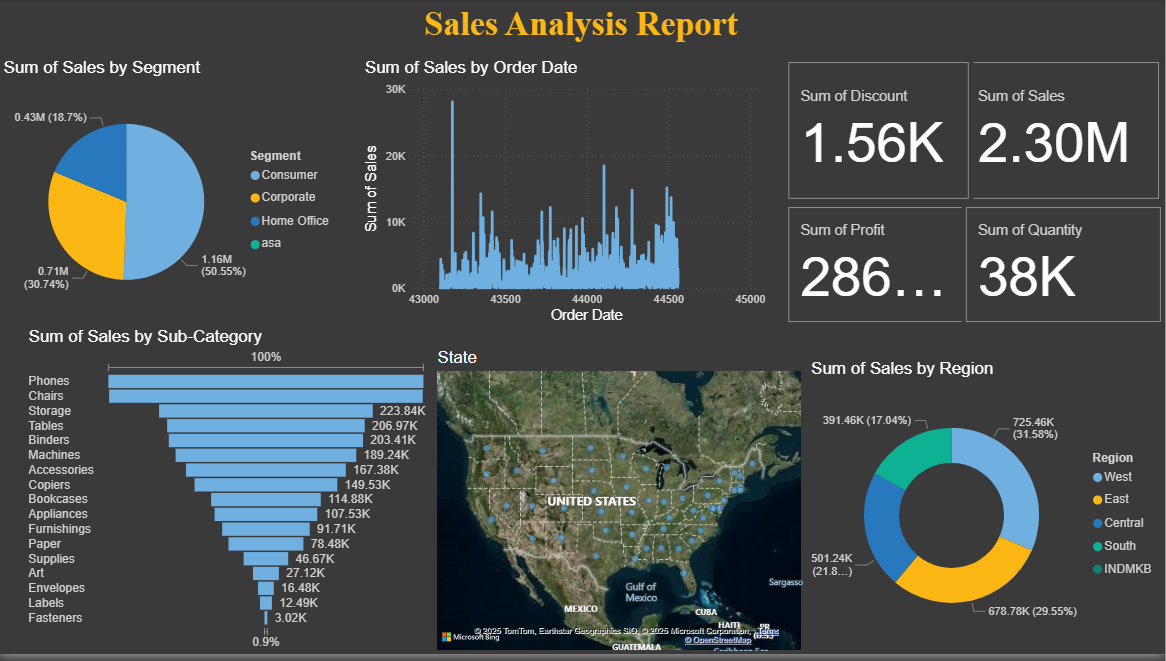

The dashboard page shown, as its layout file describes it:
{"tool":"powerbi","page":{"name":"Page 1","canvas":[1280,720],"ordinal":0},"visuals":[{"type":"donutChart","fields":{"Category":["Orders.Region"],"Y":["Orders.Sales"]},"box":[886.9,394.6,392.8,323],"z":0},{"type":"funnel","fields":{"Category":["Orders.Sub-Category"],"Y":["Orders.Sales"]},"box":[27.9,359.7,448.7,359.7],"z":1000},{"type":"map","fields":{"Category":["Orders.State"]},"box":[476.6,382.4,410.3,337],"z":2000},{"type":"pieChart","fields":{"Category":["Orders.Segment"],"Y":["Orders.Sales"]},"box":[0,64,376,296],"z":3000},{"type":"lineChart","fields":{"Category":["Orders.Order Date"],"Y":["Orders.Sales"]},"box":[396,64,450,296],"z":4000},{"type":"cardVisual","fields":{"Data":["Orders.Sales"]},"box":[1056,64,222,160],"z":5000},{"type":"cardVisual","fields":{"Data":["Orders.Profit"]},"box":[862,224,208,136],"z":6000},{"type":"cardVisual","fields":{"Data":["Orders.Quantity"]},"box":[1056,224,224,136],"z":6001},{"type":"cardVisual","fields":{"Data":["Orders.Discount"]},"box":[862,64,208,160],"z":6002},{"type":"textbox","box":[0,0,1278,56],"z":6003}]}

Visuals, with their boxes in screenshot pixels (x1, y1, x2, y2), scaled from the page's 1280x720 canvas onto the 1166x661 screenshot:
donutChart - Orders.Region x Orders.Sales: 808:362:1165:659
funnel - Orders.Sub-Category x Orders.Sales: 25:330:434:660
map - Orders.State: 434:351:808:660
pieChart - Orders.Segment x Orders.Sales: 0:59:343:330
lineChart - Orders.Order Date x Orders.Sales: 361:59:771:330
cardVisual - Orders.Sales: 962:59:1164:206
cardVisual - Orders.Profit: 785:206:975:330
cardVisual - Orders.Quantity: 962:206:1165:330
cardVisual - Orders.Discount: 785:59:975:206
textbox: 0:0:1164:51
